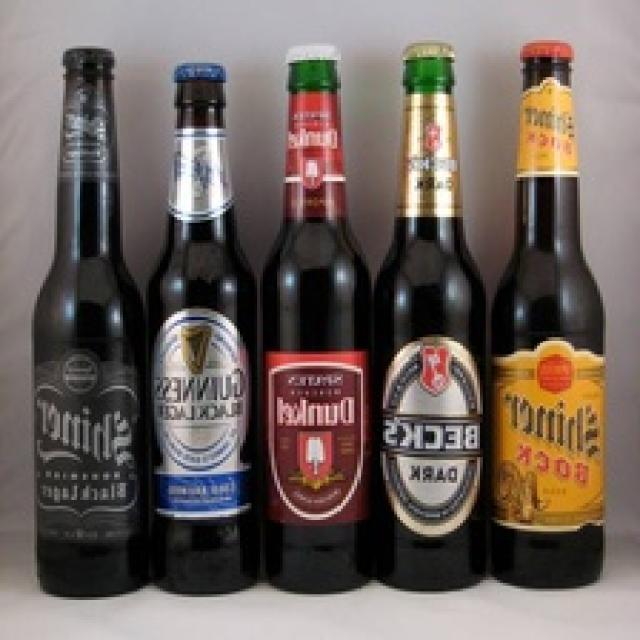Glass: (29, 46, 148, 598), (486, 68, 610, 592), (372, 60, 492, 596), (258, 59, 374, 598), (142, 82, 259, 604)
